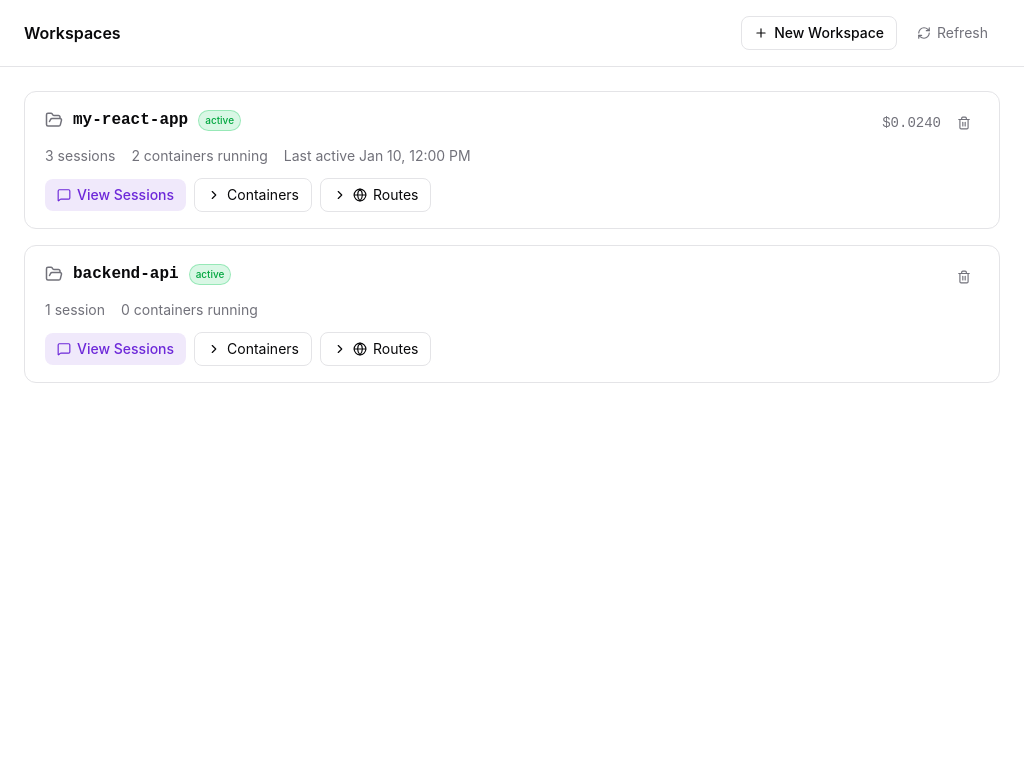
Dashboard › shows confirmation modal when delete button is clicked
This screenshot has width=1024, height=768.
Click the button titled "Delete workspace" next to "0.0240" at (964, 123), box [949, 108, 979, 138]
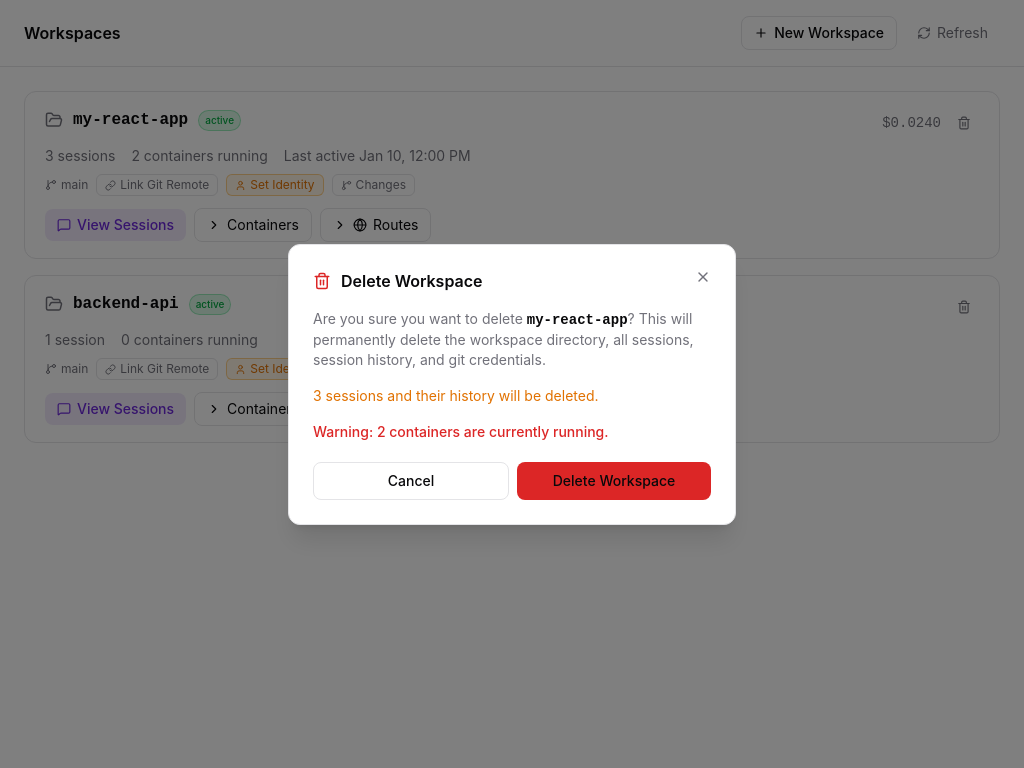
Expected: the heading "Delete Workspace" is shown, [341, 268, 482, 292]
Expected: the text "permanently delete" is shown, [313, 310, 694, 368]
